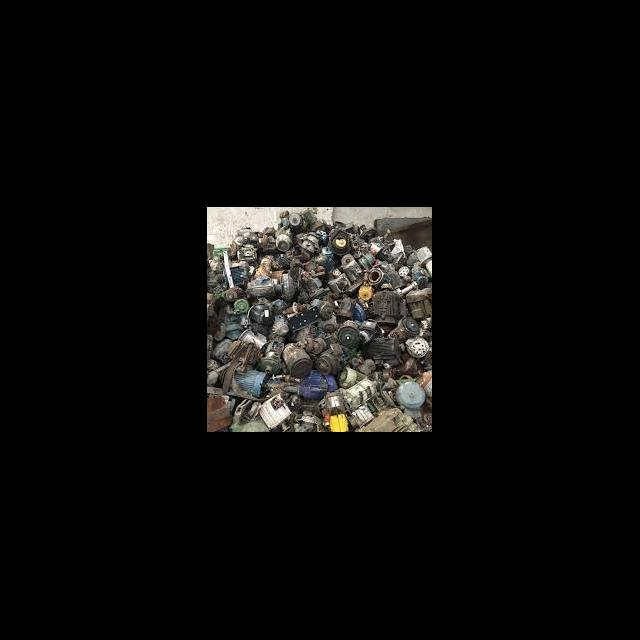metal: (244, 266, 308, 306), (220, 364, 272, 398), (364, 286, 406, 326), (278, 340, 318, 378), (342, 372, 379, 411), (322, 388, 353, 432), (258, 328, 288, 373), (389, 378, 426, 414), (216, 248, 242, 292), (364, 332, 402, 360), (388, 314, 422, 344), (237, 324, 270, 354), (333, 316, 362, 346), (272, 227, 296, 256)
